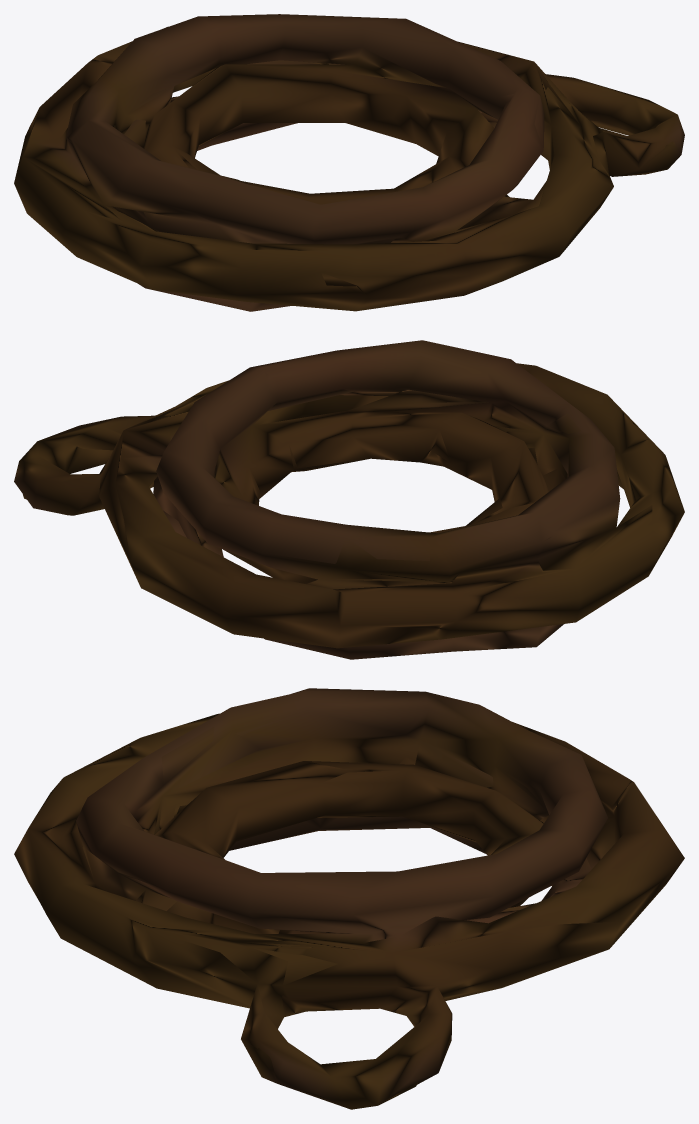
Rendered from gen3d-lasso-lod1.glb.
3 renders of one model, top to bottom at view 1: azimuth 30°, elevation 25°; view 2: azimuth 150°, elevation 25°; view 3: azimuth 270°, elevation 25°, orthographic. The views are drawn at different scales.
Visible parts, largest first — view 1: part_0; view 2: part_0; view 3: part_0.
Part boxes in pixels (x1,y1,x2,y2): part_0: (14, 14, 684, 311); part_0: (14, 340, 684, 659); part_0: (14, 688, 684, 1109).
Size of the model in its own units: 4.88 by 0.9784 by 4.29.
